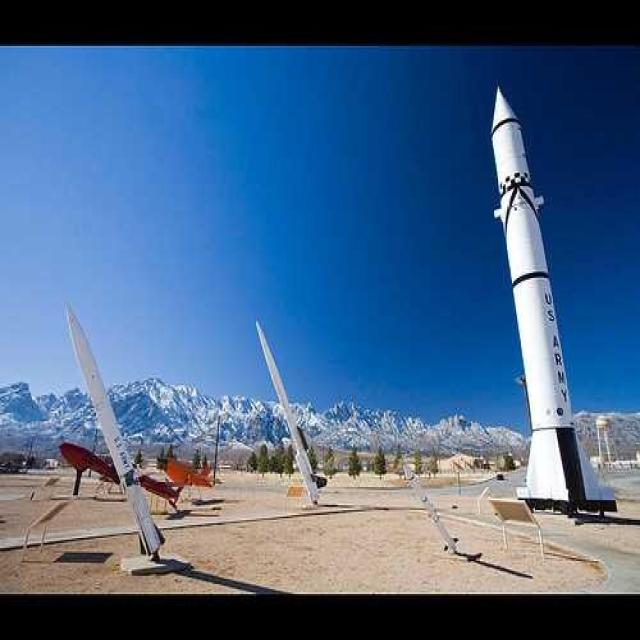missile: (490, 88, 622, 514), (64, 301, 168, 558), (253, 317, 328, 506)
